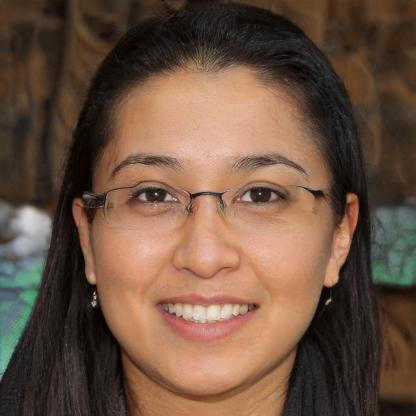glasses: (90, 180, 322, 228)
